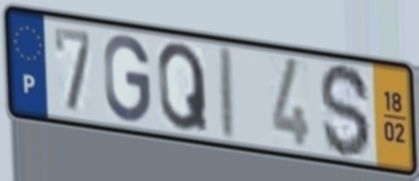4: (269, 54, 314, 155)
7: (51, 25, 94, 117)
G: (102, 32, 153, 125)
I: (218, 42, 239, 145)
Q: (155, 41, 212, 136)
S: (318, 60, 373, 161)
